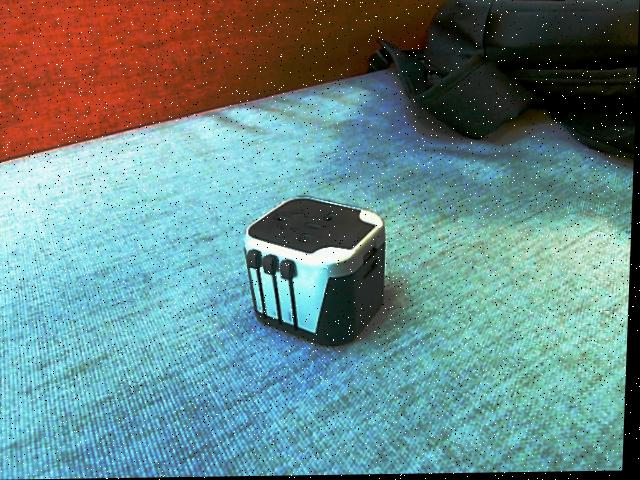adapter: (240, 196, 390, 348)
